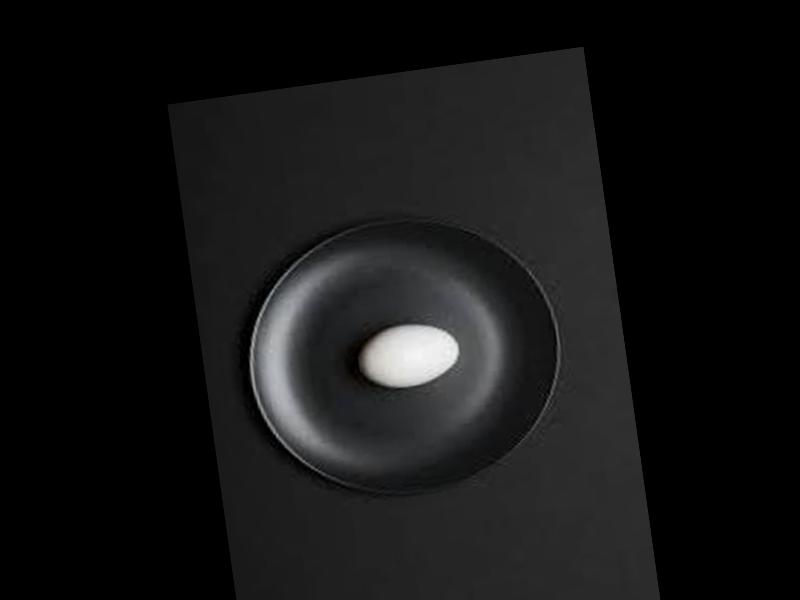Eggs: (356, 317, 462, 392)
